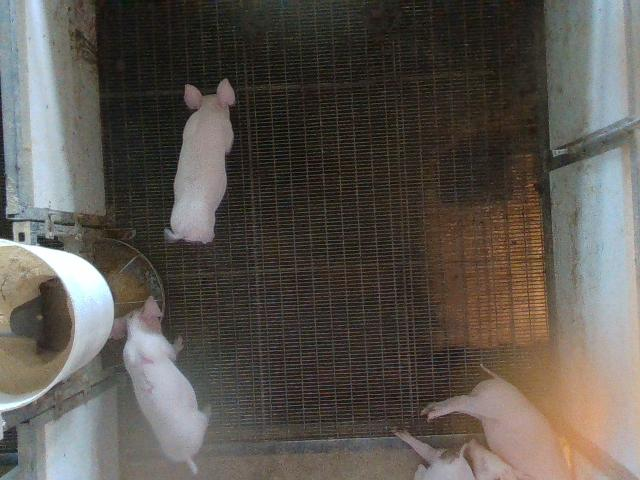pig-5: (111, 296, 208, 473)
